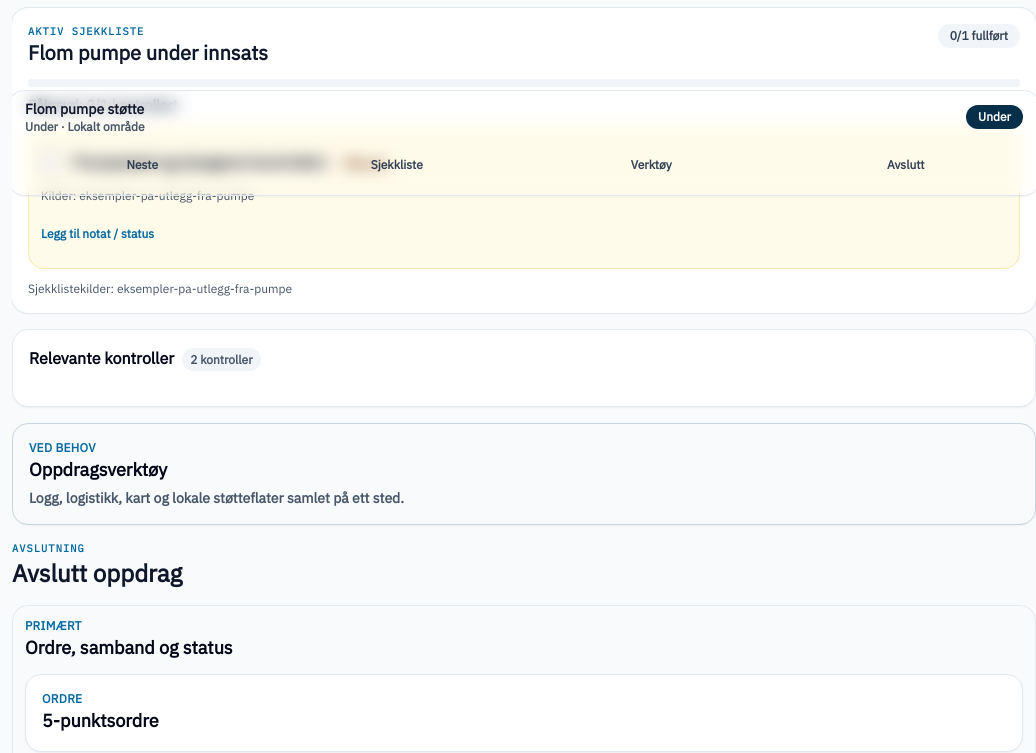
surfaces secondary relevant checklists in the mission work panel
(page scrolled)
Expected: the heading "Flom pumpe under innsats" is shown, [28,39,268,67]
What coordinates should you click on to do the following:
click the heading "Relevante kontroller2 kontroller"
I would click on:
 (145, 360)
Its box is [29,348,261,371].
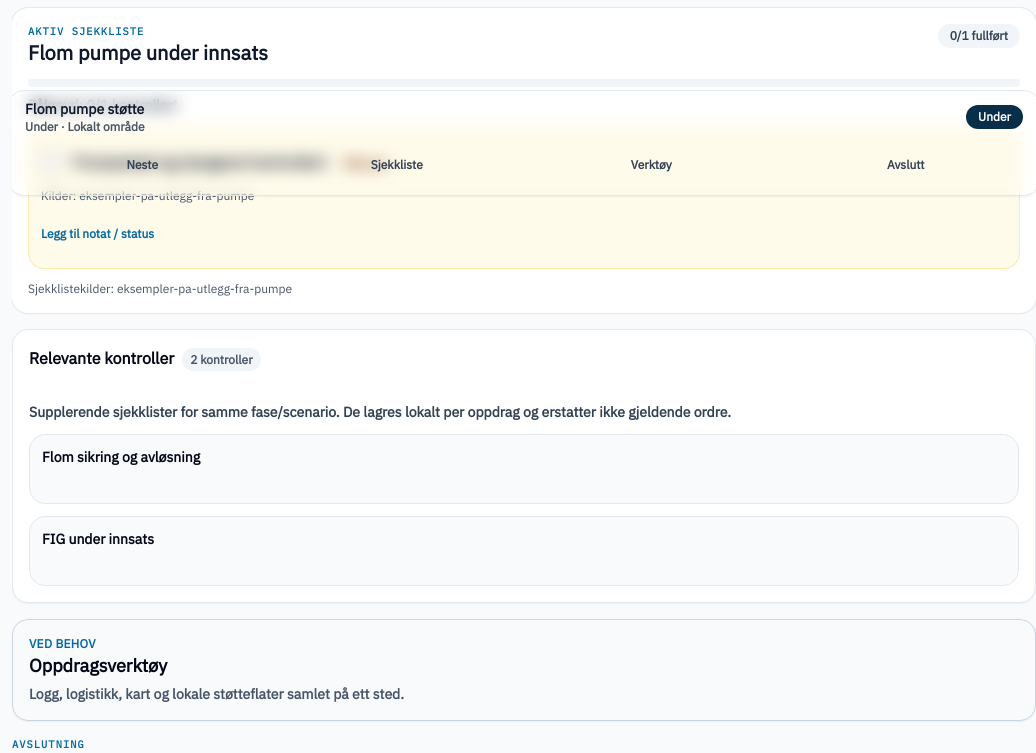
Expected: the element with id "relevante-kontroller" shows "2 kontroller", [12,329,1035,603]
Expected: the element with id "relevante-kontroller" shows "Flom sikring og avløsning", [42,448,200,466]
Expected: the element with id "relevante-kontroller" shows "FIG under innsats", [42,530,154,548]
